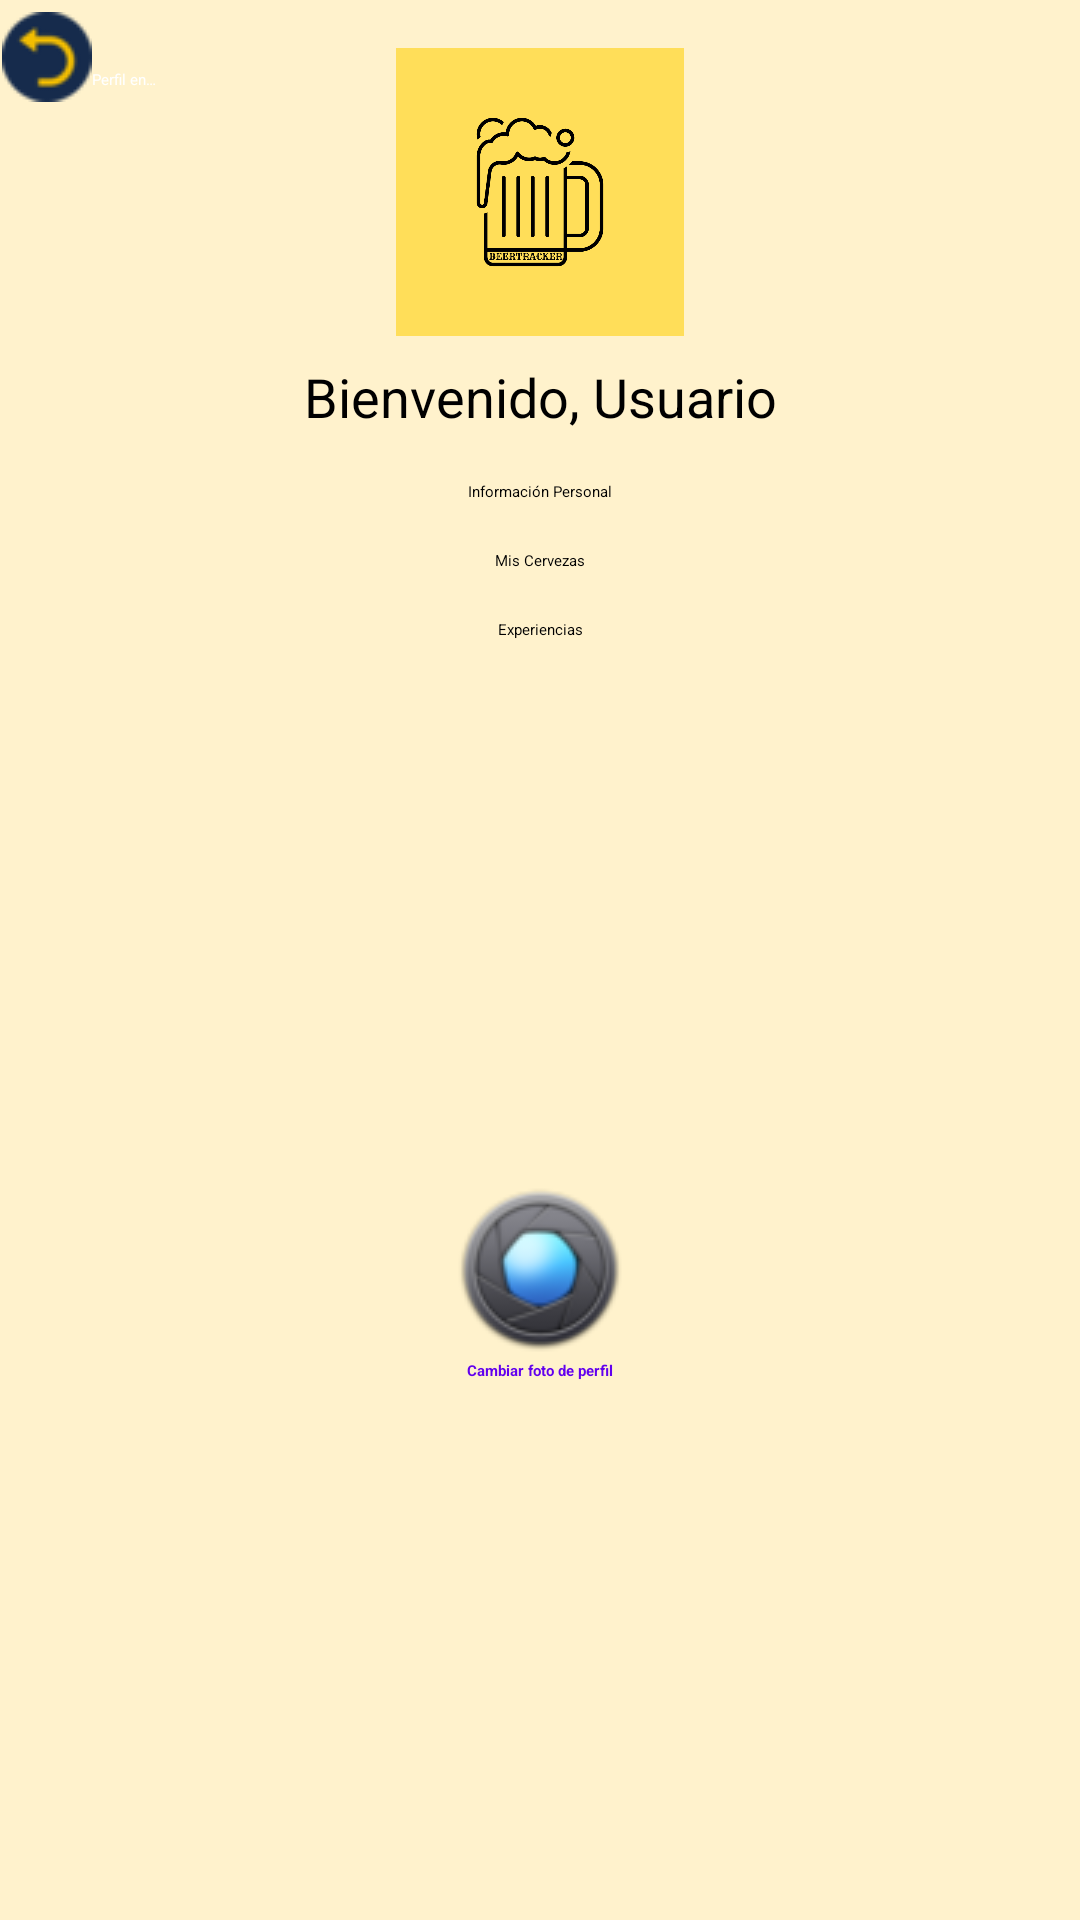

Icons on this 1080px x 1920px Android screen, each with the point to tap as (x=x, y=y):
camara: (x=540, y=1270)
